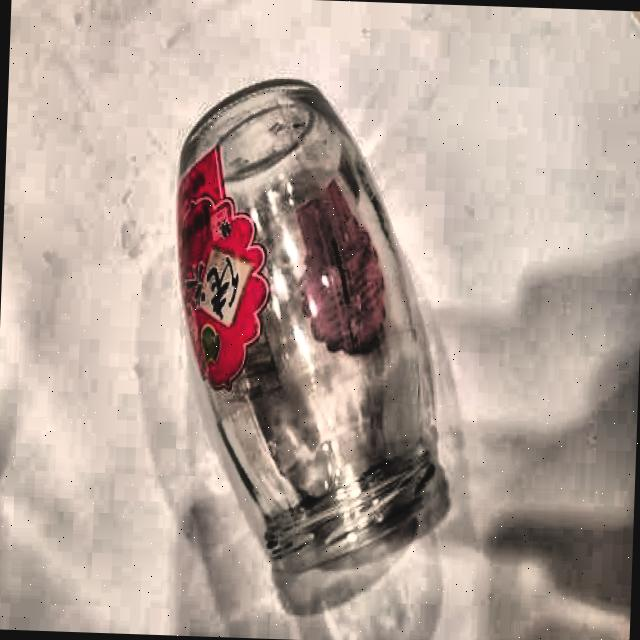glass: (162, 69, 464, 580)
